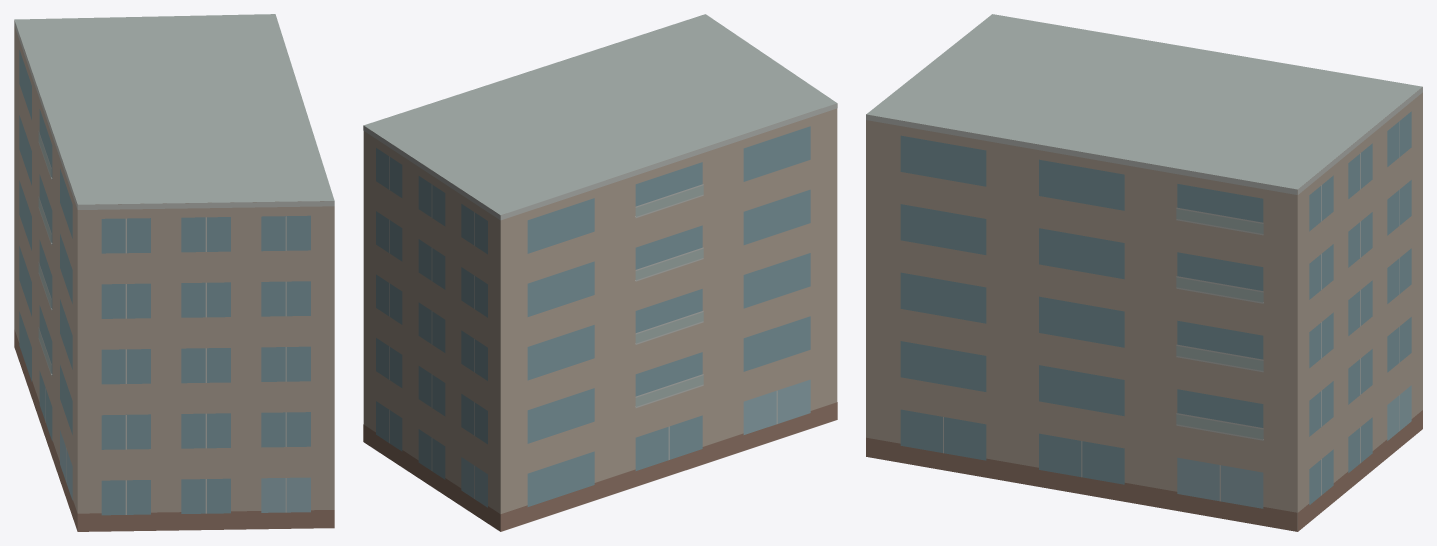
The model's file is survey-upis-32780448.glb.
3 renders of one model, left to right at view 1: azimuth 30°, elevation 25°; view 2: azimuth 150°, elevation 25°; view 3: azimuth 270°, elevation 25°, orthographic. The views are drawn at different scales.
Parts seen in each view (by area): view 1: survey-upis-32780448.tmp; view 2: survey-upis-32780448.tmp; view 3: survey-upis-32780448.tmp.
Boxes of the visible parts, bbox=[...] form: survey-upis-32780448.tmp: bbox=[14, 14, 334, 531]; survey-upis-32780448.tmp: bbox=[363, 14, 837, 531]; survey-upis-32780448.tmp: bbox=[866, 14, 1422, 531].
Bounding box in the file's own units: 16.28 × 14.8 × 21.82.
